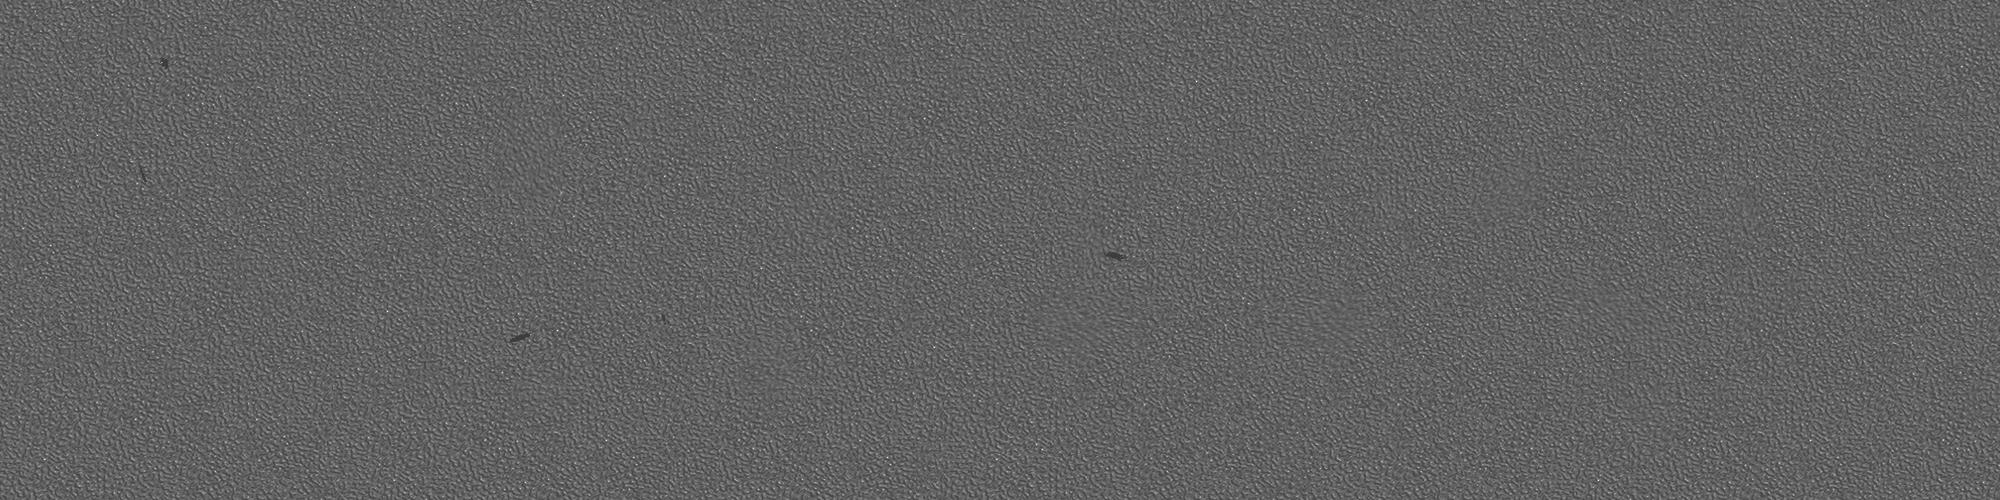Decomposed: (1098, 246, 1136, 265), (506, 325, 534, 348), (152, 50, 173, 70), (130, 167, 147, 190)
